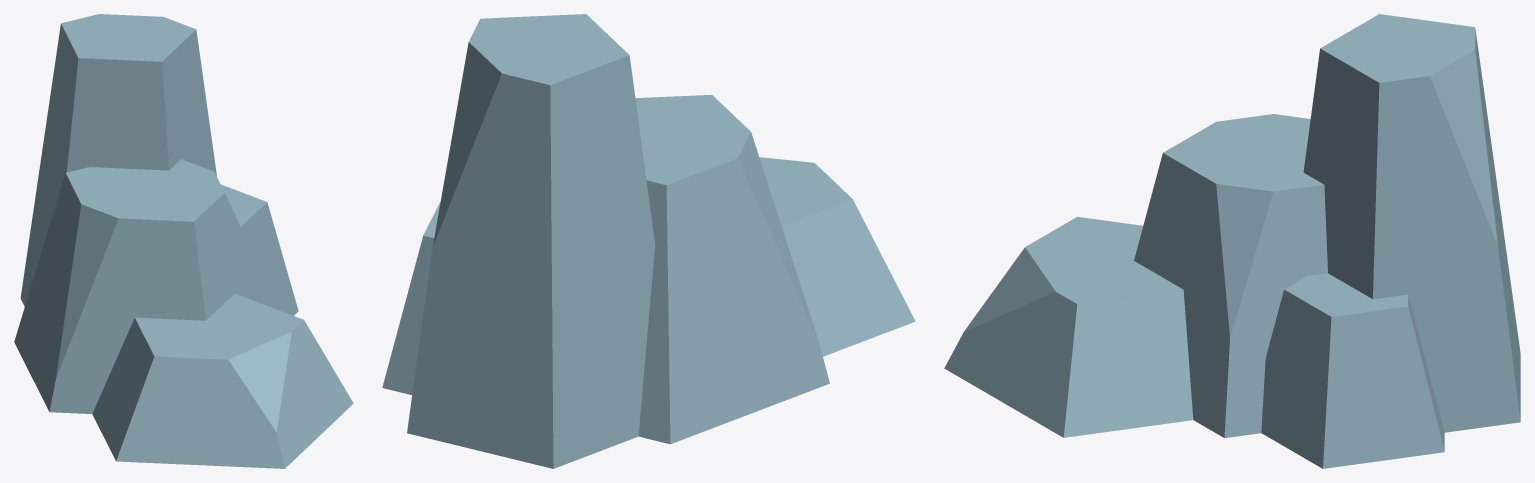
File: rockWide.dae
3 renders of one model, left to right at view 1: azimuth 30°, elevation 25°; view 2: azimuth 150°, elevation 25°; view 3: azimuth 270°, elevation 25°, orthographic. The views are drawn at different scales.
Visible parts, largest first — view 1: rockWide; view 2: rockWide; view 3: rockWide.
Boxes of the visible parts, x1,y1,x2,y2 form: rockWide: [14, 14, 353, 468]; rockWide: [382, 14, 915, 468]; rockWide: [944, 14, 1520, 468].
Size of the model in its own units: 1.09 by 1.02 by 1.57.
